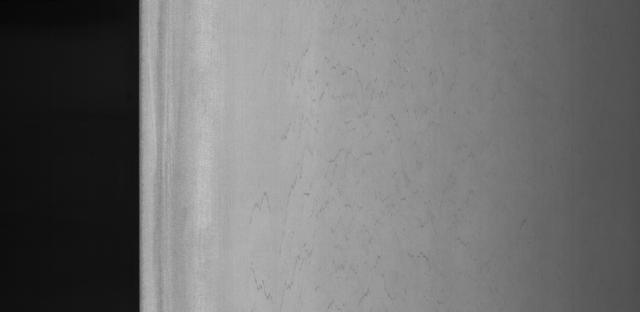silk_spot: (271, 16, 466, 293)
